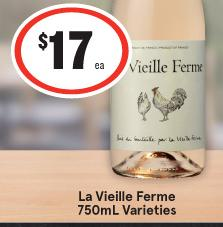description_block: (75, 182, 183, 217)
price_main: (13, 8, 128, 101)
product_image_block: (101, 1, 212, 184)
